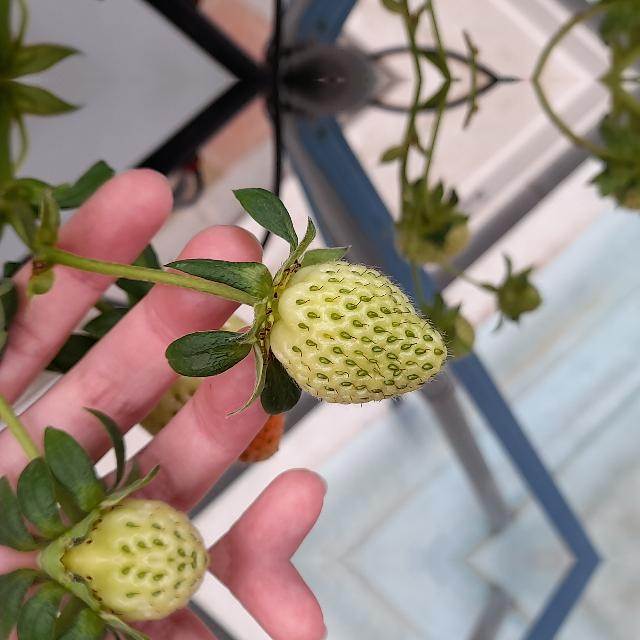Health_25: (269, 261, 446, 404)
